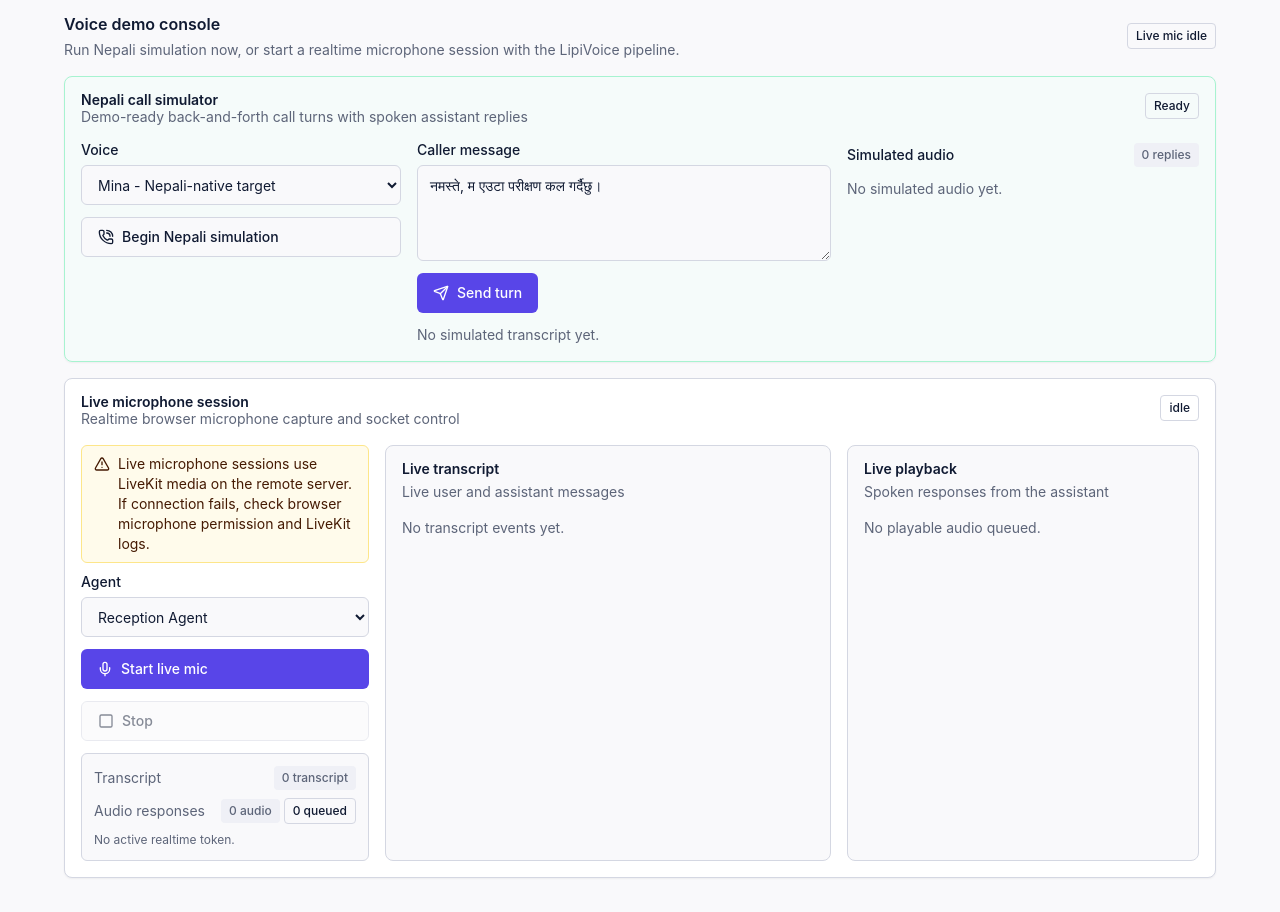
Test case: VoiceConsolePage › stops before opening a socket when realtime session creation fails
The image size is (1280, 912).
Click the button "Start live mic".
click(164, 668)  # box [81,649,369,689]
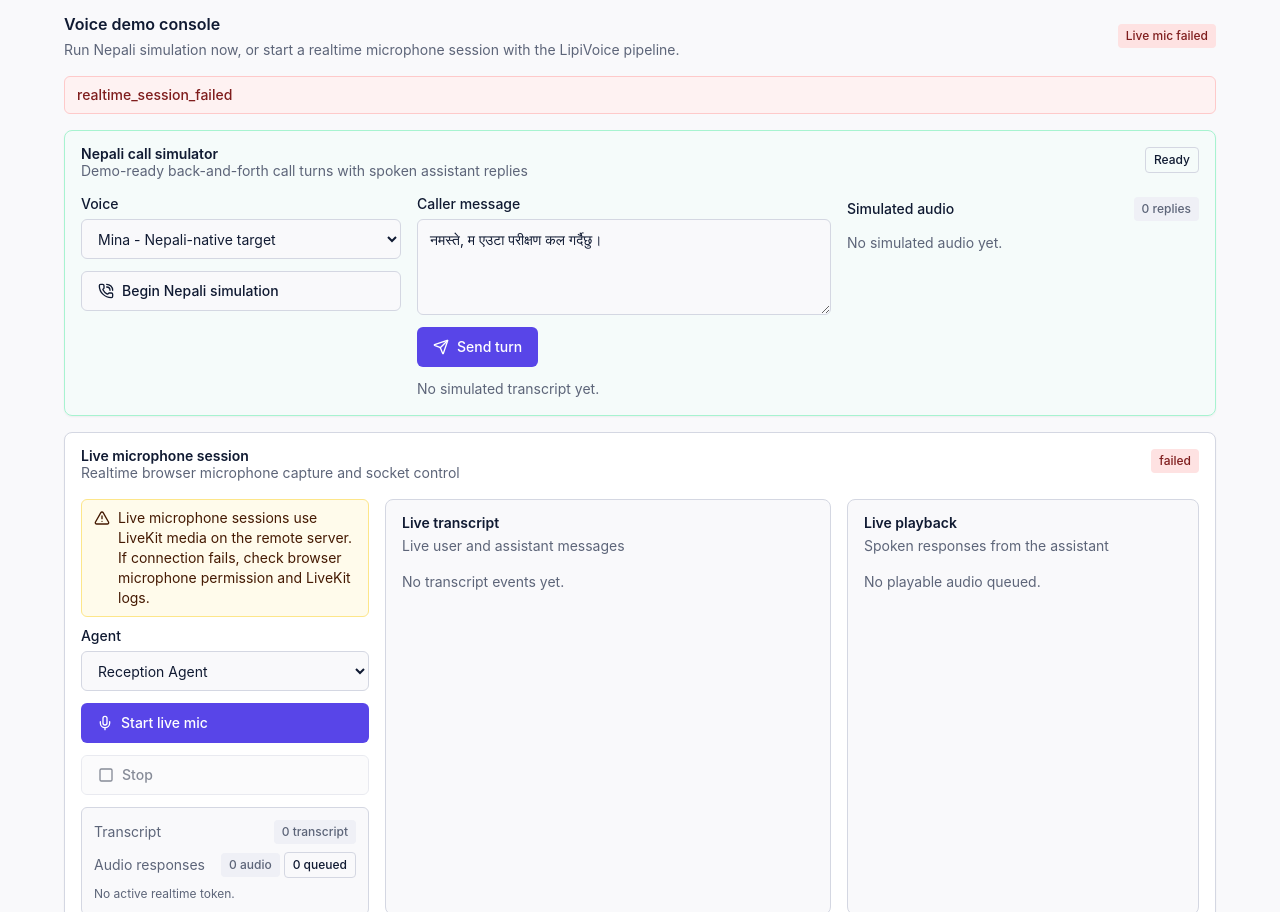
Expected: the text "realtime_session_failed" is shown, [64,76,1216,114]
